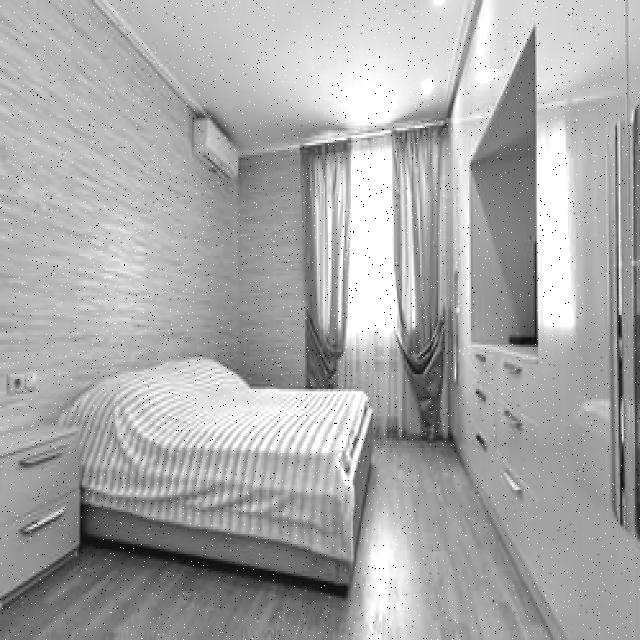bed: (80, 349, 379, 528)
